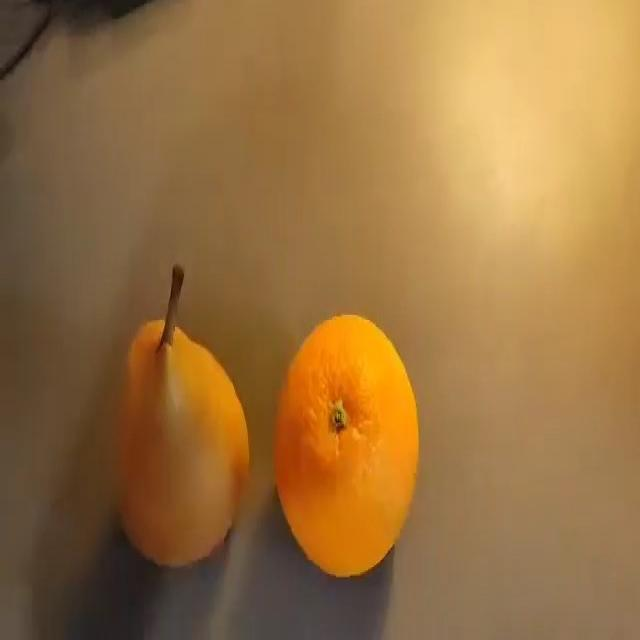Orange: (273, 312, 420, 578)
